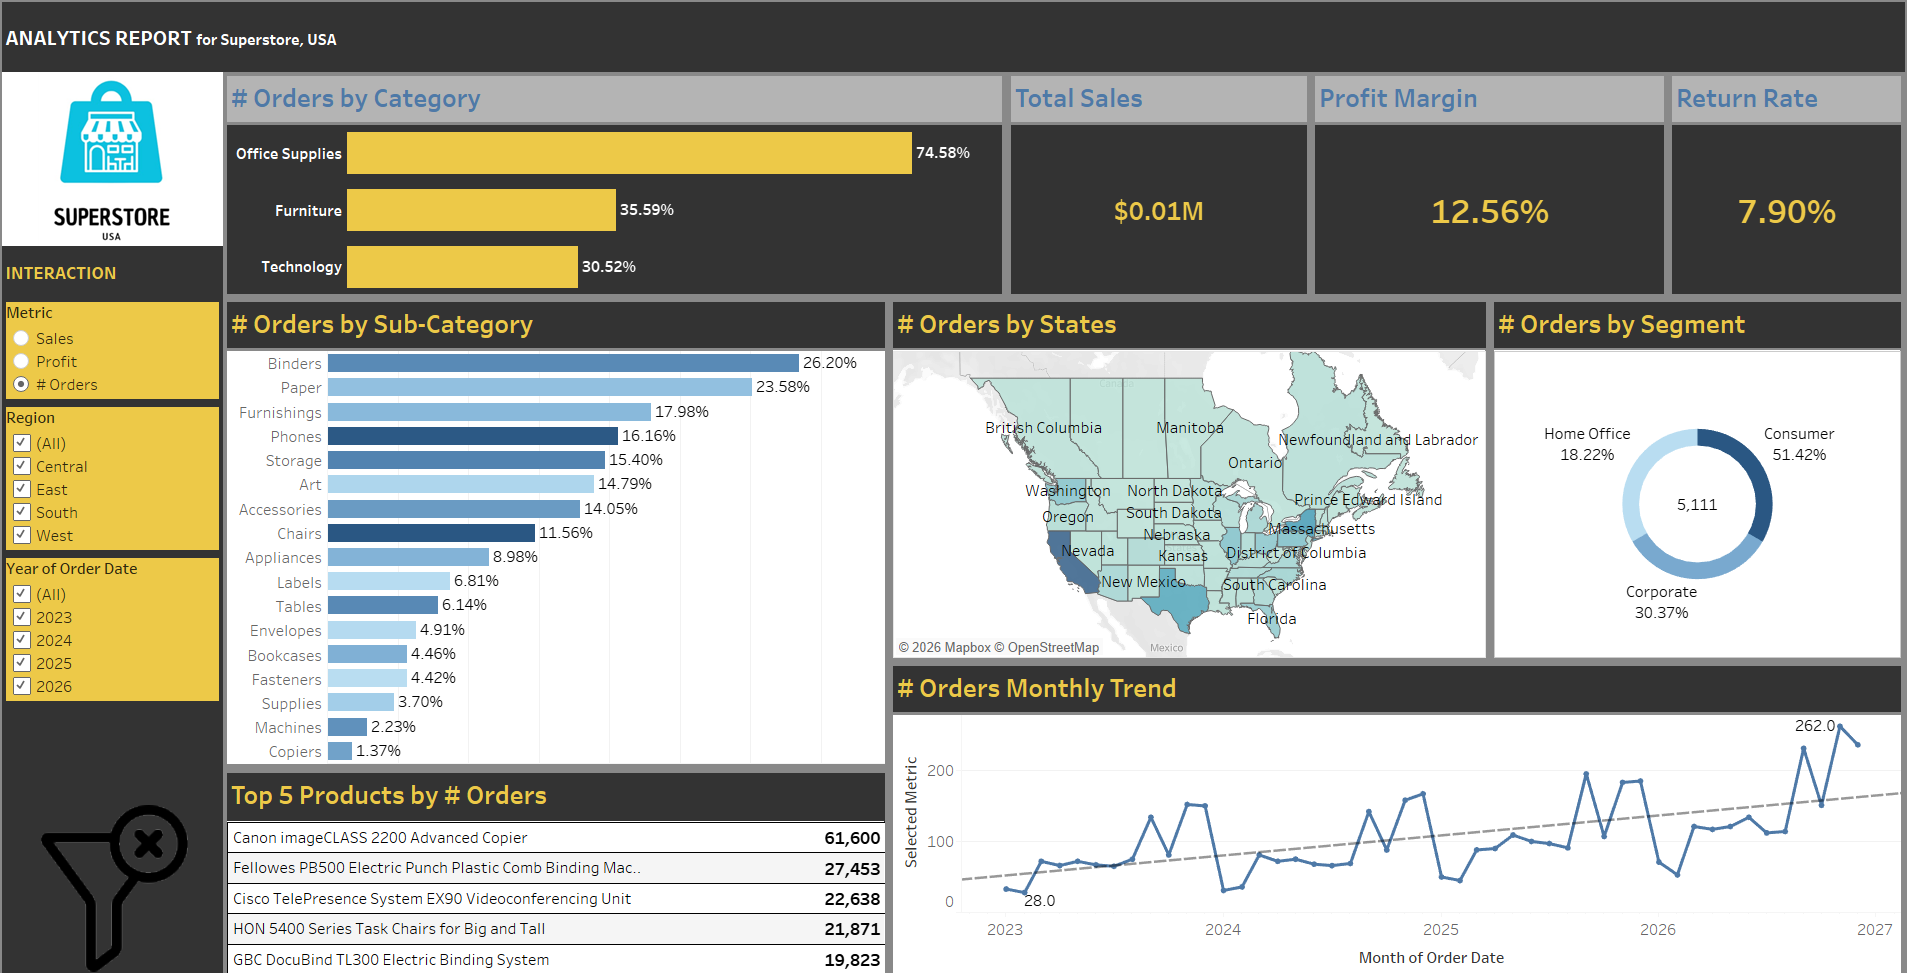

The dashboard page shown, as its layout file describes it:
{"tool":"tableau","page":{"name":"Final Dashboard","canvas":[1000,1000],"units":"permille","ordinal":0},"visuals":[{"type":"text","box":[4.8,10,990.3,69.9]},{"type":"image","param":"Image/Screenshot 2026-08-24 193931.png","box":[4.8,79.9,115.2,174.8]},{"type":"worksheet","title":"Category","mark":"Automatic","rows":["Category"],"cols":["Calculation_1862238483544436746"],"box":[120.1,79.9,407.5,227.5]},{"type":"worksheet","title":"Total Sales","mark":"Automatic","box":[527.6,79.9,158,227.5]},{"type":"worksheet","title":"Profit Margin","mark":"Automatic","box":[685.6,79.9,186,227.5]},{"type":"worksheet","title":"Return Rate KPI","mark":"Automatic","box":[871.6,79.9,123.6,227.5]},{"type":"text","box":[4.8,254.7,115.2,52.4]},{"type":"parameter","param":"[Parameters].[Parameter 2]","box":[4.8,307.1,115.2,131.1]},{"type":"worksheet","title":"Sub-category","mark":"Automatic","rows":["Sub-Category"],"cols":["Calculation_1862238483544436746"],"box":[120.1,307.4,346.3,471.6]},{"type":"worksheet","title":"Sales by States","mark":"Multipolygon","box":[466.4,307.4,312.5,364.9]},{"type":"worksheet","title":"Sales by Segment","mark":"Pie","rows":["Calculation_1862238483550863374","Calculation_1862238483550871568"],"box":[778.9,307.4,216.3,364.9]},{"type":"filter","title":"Sub-category","param":"[federated.0k17pc00cersf41cxx7rs15ydtot].[none:Region:nk]","box":[4.8,438.2,115.2,188.5]},{"type":"filter","title":"Sub-category","param":"[federated.0k17pc00cersf41cxx7rs15ydtot].[yr:Order Date:ok]","box":[4.8,626.7,115.2,188.5]},{"type":"worksheet","title":"Monthly Trend","mark":"Line","rows":["Calculation_1862238483544436746"],"cols":["Order Date"],"box":[466.4,672.3,528.8,317.7]},{"type":"worksheet","title":"Top 5 Products","mark":"Automatic","rows":["Product Name"],"box":[120.1,779,346.3,211]},{"type":"dashboard-object","box":[6.6,816.5,111.7,168.5]}]}

Visuals, with their boxes on the dashboard's canvas, which has no fixed pixel size, in thousandths of its width and height (x1, y1, x2, y2). These are canvas units, not pixel positions in the 1907x973 screenshot, which may show the page scaled, cropped or inside an application window:
text: rect(5, 10, 995, 80)
image: rect(5, 80, 120, 255)
"Category" worksheet: rect(120, 80, 528, 307)
"Total Sales" worksheet: rect(528, 80, 686, 307)
"Profit Margin" worksheet: rect(686, 80, 872, 307)
"Return Rate KPI" worksheet: rect(872, 80, 995, 307)
text: rect(5, 255, 120, 307)
parameter: rect(5, 307, 120, 438)
"Sub-category" worksheet: rect(120, 307, 466, 779)
"Sales by States" worksheet (Multipolygon marks): rect(466, 307, 779, 672)
"Sales by Segment" worksheet (Pie marks): rect(779, 307, 995, 672)
"Sub-category" filter: rect(5, 438, 120, 627)
"Sub-category" filter: rect(5, 627, 120, 815)
"Monthly Trend" worksheet (Line marks): rect(466, 672, 995, 990)
"Top 5 Products" worksheet: rect(120, 779, 466, 990)
dashboard-object: rect(7, 816, 118, 985)
